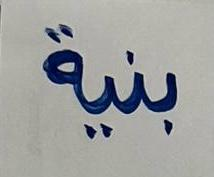beh: (149, 63, 189, 148)
noon: (116, 39, 147, 130)
teh_marbota: (39, 13, 84, 106)
yeh: (86, 54, 114, 151)
